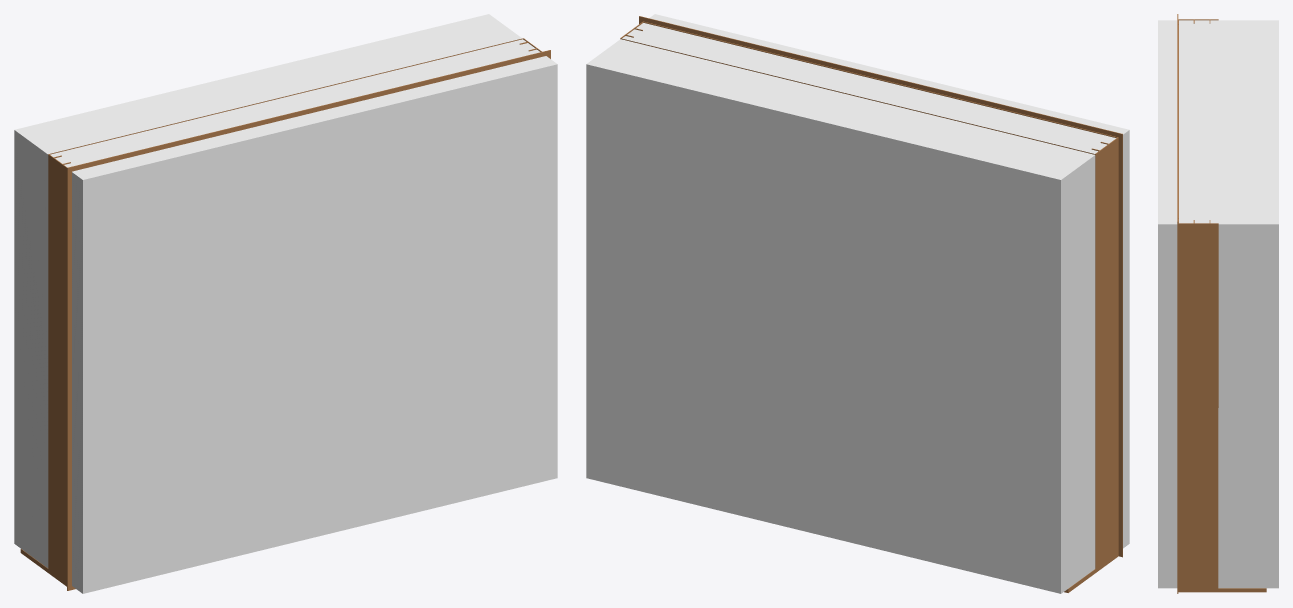
The model's file is RAIL WINDOW.fbx.
The picture shows the model from 3 angles, left to right: view 1: azimuth 30°, elevation 25°; view 2: azimuth 150°, elevation 25°; view 3: azimuth 270°, elevation 25°; orthographic projection. The views are drawn at different scales.
Visible parts, largest first — view 1: CTRL_Hole, WindowFrame; view 2: CTRL_Hole, WindowFrame; view 3: CTRL_Hole, WindowFrame, Windows_Sill.
Part boxes in pixels (left/top/right/bottom): CTRL_Hole: left=14, top=14, right=557, bottom=593; WindowFrame: left=48, top=38, right=550, bottom=590; CTRL_Hole: left=586, top=14, right=1129, bottom=593; WindowFrame: left=620, top=16, right=1122, bottom=568; CTRL_Hole: left=1158, top=20, right=1278, bottom=588; WindowFrame: left=1177, top=14, right=1218, bottom=593; Windows_Sill: left=1178, top=588, right=1266, bottom=592.
Bounding box in the file's own units: 122 × 102 × 30.
